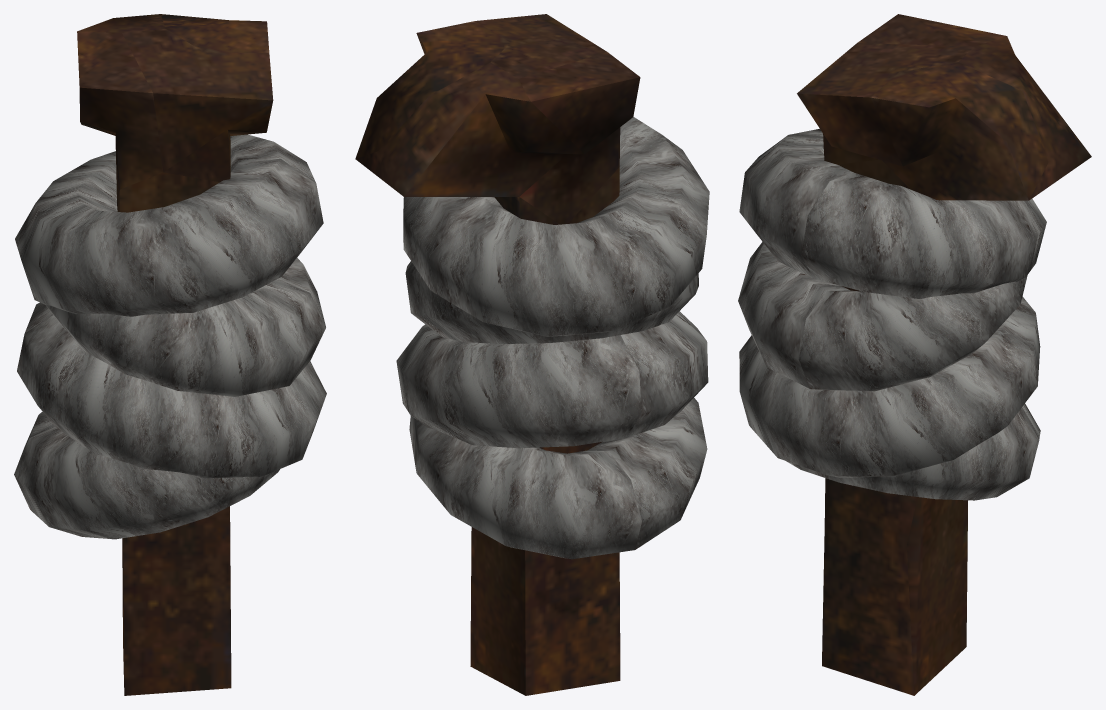
Rendered from DENZI_Object002.FBX.
The picture shows the model from 3 angles, left to right: view 1: azimuth 30°, elevation 25°; view 2: azimuth 150°, elevation 25°; view 3: azimuth 270°, elevation 25°; orthographic projection. The views are drawn at different scales.
Parts seen in each view (by area): view 1: DENZI_Object002; view 2: DENZI_Object002; view 3: DENZI_Object002.
Boxes of the visible parts, <box> form: DENZI_Object002: <box>14,14,326,695</box>; DENZI_Object002: <box>355,14,709,695</box>; DENZI_Object002: <box>738,14,1091,695</box>.
Bounding box in the file's own units: 20.08 × 43.9 × 22.96.
